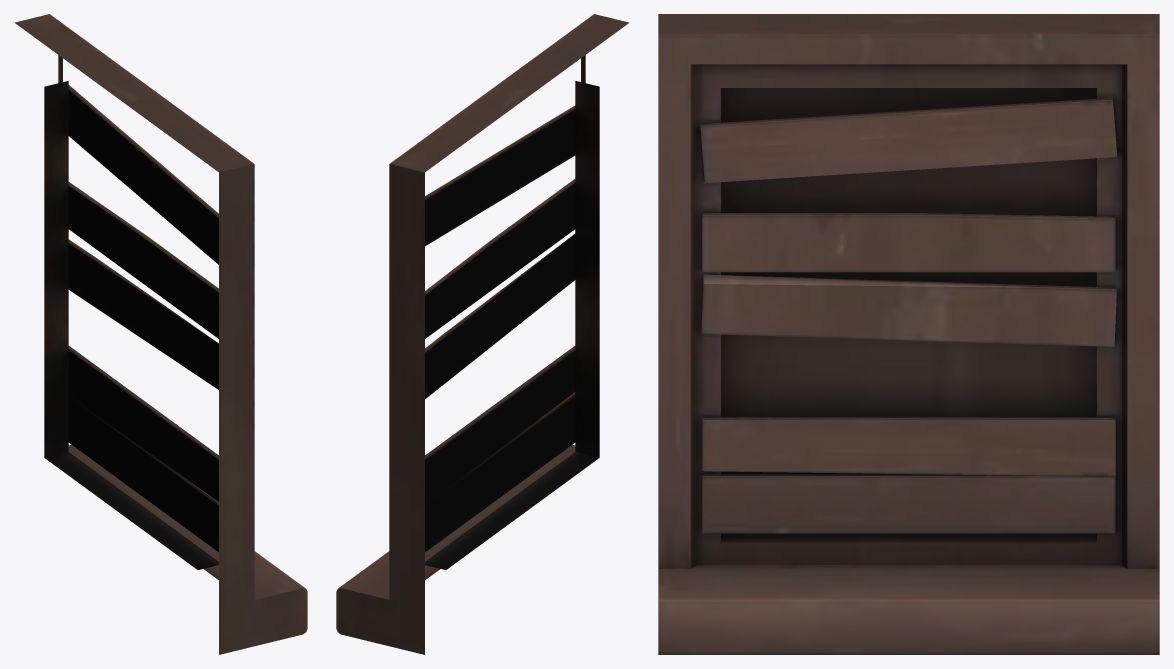
3 views of the same model, side by side, from view 1: azimuth 30°, elevation 25°; view 2: azimuth 150°, elevation 25°; view 3: azimuth 270°, elevation 25° (orthographic). The views are drawn at different scales.
Visible parts, largest first — view 1: body0_model0_lod0_mesh0; view 2: body0_model0_lod0_mesh0; view 3: body0_model0_lod0_mesh0.
Part boxes in pixels (x1=…): body0_model0_lod0_mesh0: x1=15, y1=14, x2=307, y2=654; body0_model0_lod0_mesh0: x1=336, y1=14, x2=628, y2=654; body0_model0_lod0_mesh0: x1=658, y1=14, x2=1159, y2=654.
Bounding box in the file's own units: 10 × 52 × 40.
Materials: 1 (1 with a texture image).
